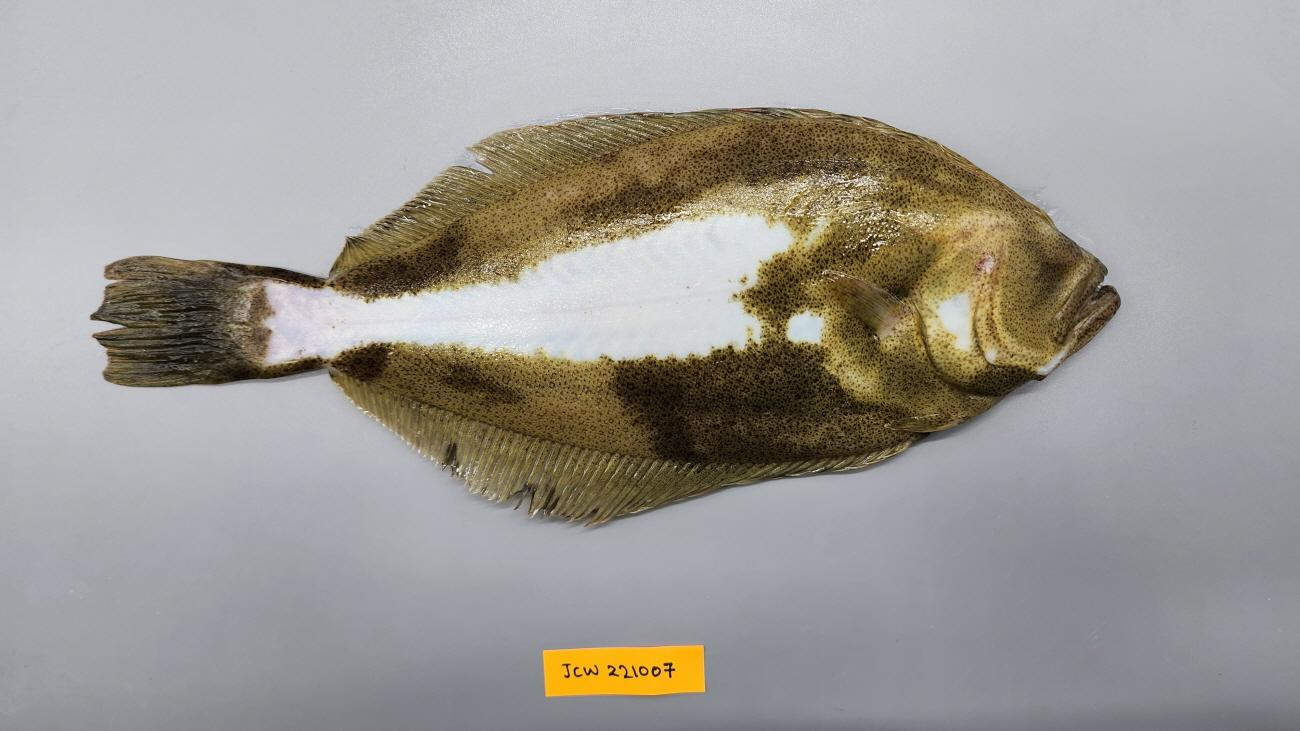POOUN: (90, 107, 1122, 528)
